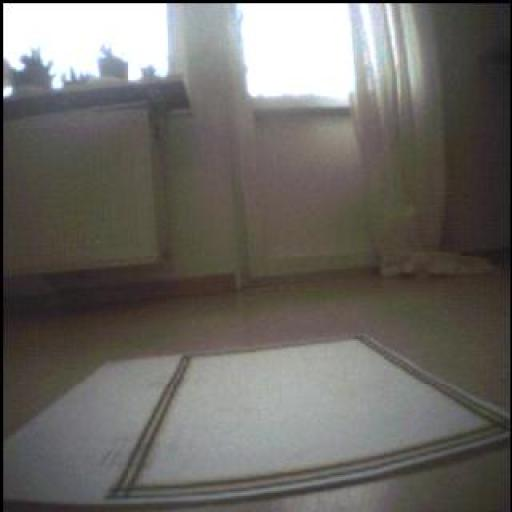Pad: (1, 340, 511, 502), (363, 317, 384, 325)
